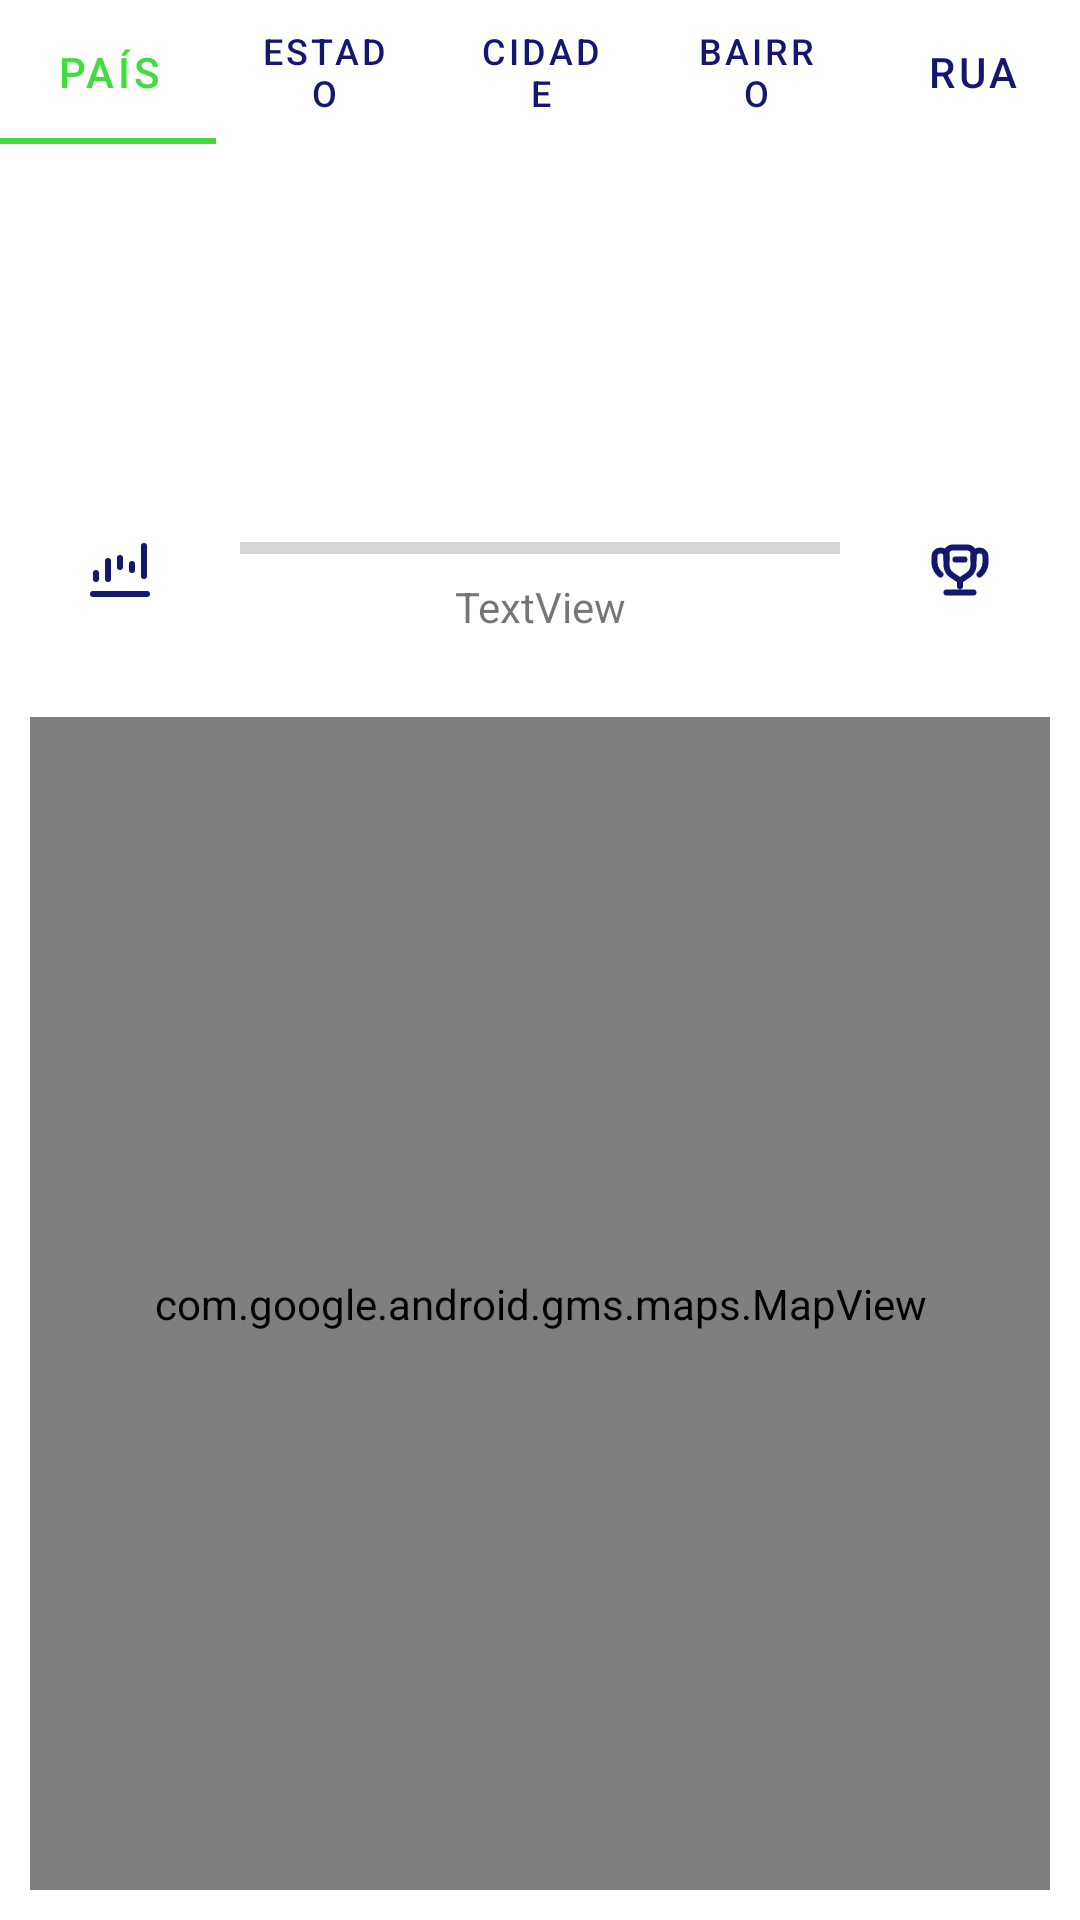

Where icons sit on this 1080×1920 app screen, as (x1, y1, x2, y2):
leaderboard: (931, 544, 989, 596)
statistics: (90, 543, 150, 597)
